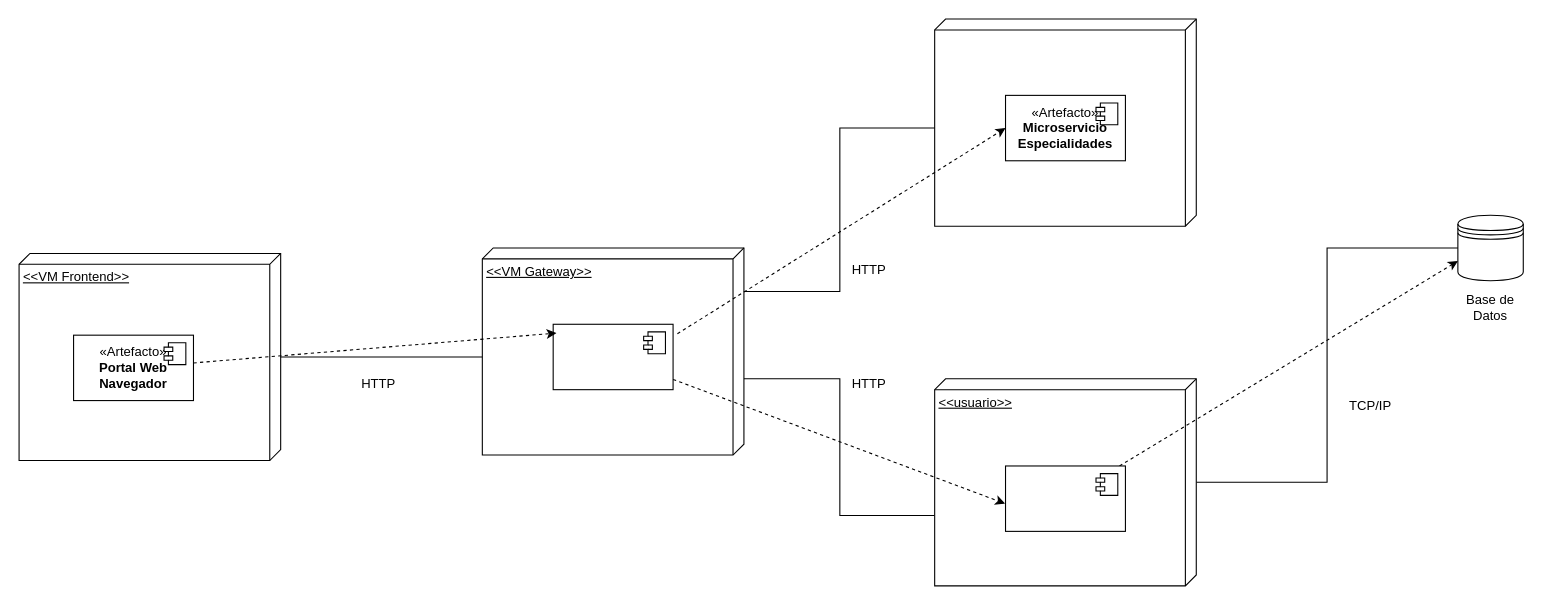
Image size: 1542x605. Some labels were removed from this diagram. Here are the shapes that lost their labels. From the top down, the box of each, then its label:
(934, 18, 1196, 226): <<VM Especialidades>>
(552, 323, 673, 390): «Artefacto» API Gateway
(1004, 465, 1125, 531): «Artefacto» Microservicio Servicios Medicos
